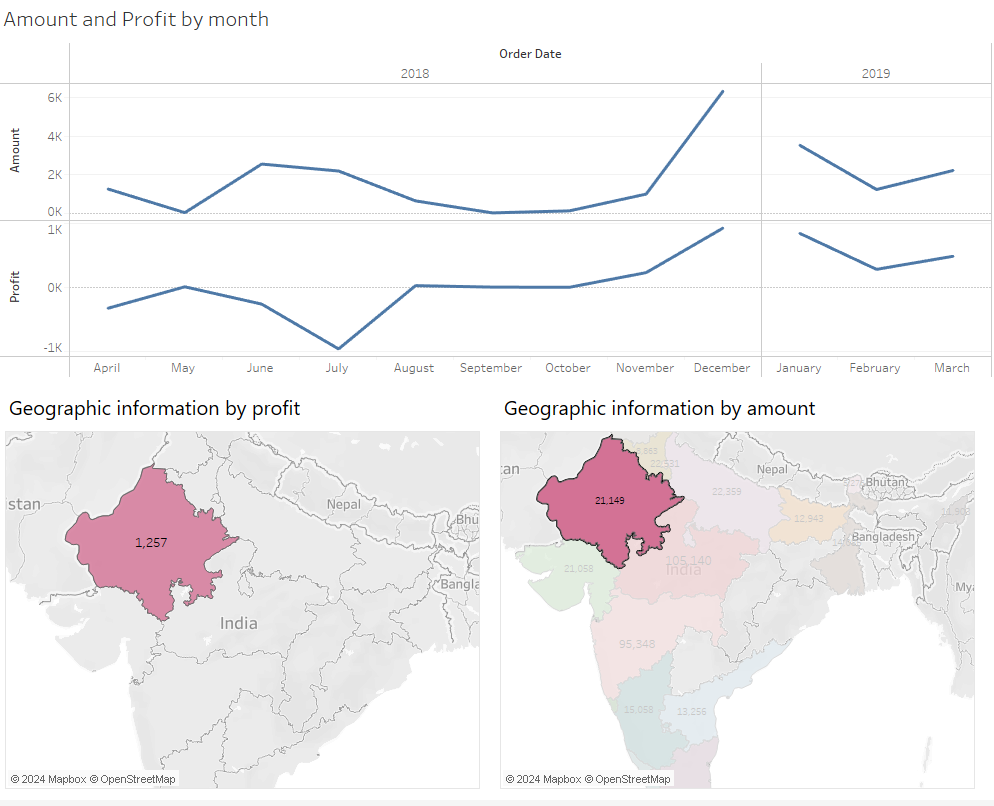

The dashboard page shown, as its layout file describes it:
{"tool":"tableau","page":{"name":"Dashboard 2","canvas":[1000,800],"ordinal":1},"visuals":[{"type":"worksheet","title":"Sheet 3","mark":"Automatic","rows":["Amount","Profit"],"cols":["Order Date","Order Date"],"box":[1,0,993,378]},{"type":"worksheet","title":"Sheet 5","mark":"Multipolygon","box":[7,389,475,400]},{"type":"worksheet","title":"Sheet 4","mark":"Multipolygon","box":[502,389,475,400]}]}

Visuals, with their boxes in screenshot pixels (x1, y1, x2, y2), scaled from the page's 1000x800 canvas onto the 994x806 screenshot:
"Sheet 3" worksheet: bbox=[1, 0, 988, 381]
"Sheet 5" worksheet (Multipolygon marks): bbox=[7, 392, 479, 795]
"Sheet 4" worksheet (Multipolygon marks): bbox=[499, 392, 971, 795]
